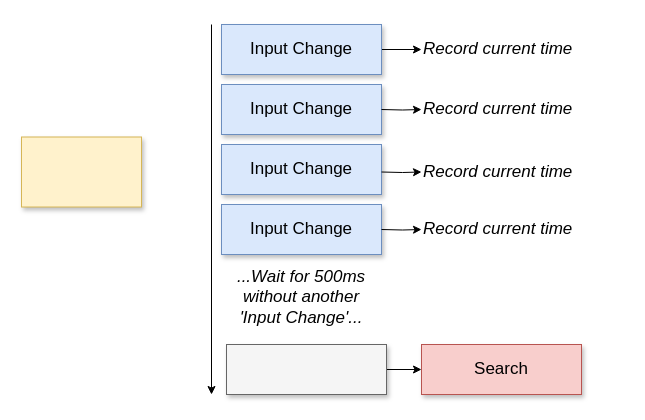
This 645x420 diagram has some shape labels left out. The centre of each missing label's shape, as x and y in pixels:
"No additional changes!" belongs at [307,371].
"This won't work!" belongs at [82,173].
